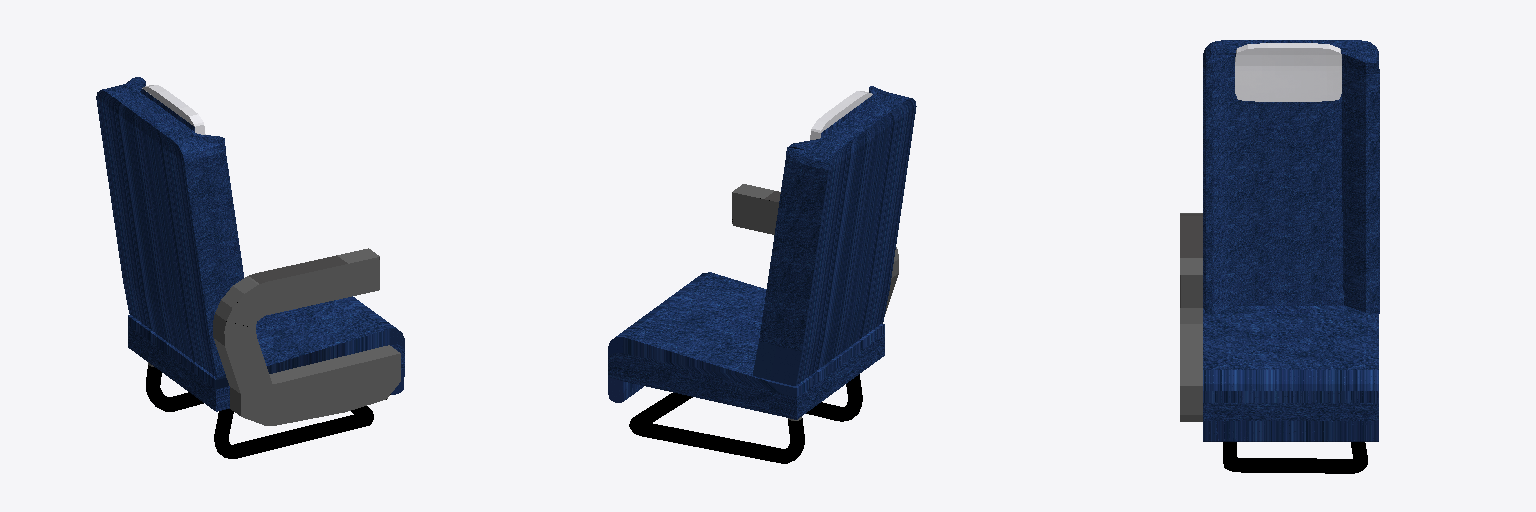
3 renders of one model, left to right at view 1: azimuth 30°, elevation 25°; view 2: azimuth 150°, elevation 25°; view 3: azimuth 270°, elevation 25°, orthographic.
Visible parts, largest first — view 1: Chair_Cube, Armrest_Cube.002, Bottom_Cube.001, Pillow_Cube.003; view 2: Chair_Cube, Bottom_Cube.001, Armrest_Cube.002, Pillow_Cube.003; view 3: Chair_Cube, Pillow_Cube.003, Armrest_Cube.002, Bottom_Cube.001.
Boxes of the visible parts, <box> form: Chair_Cube: <box>96,77,404,411</box>; Armrest_Cube.002: <box>213,248,400,425</box>; Bottom_Cube.001: <box>146,362,373,458</box>; Pillow_Cube.003: <box>142,85,205,134</box>; Chair_Cube: <box>608,86,916,419</box>; Bottom_Cube.001: <box>629,374,862,463</box>; Armrest_Cube.002: <box>732,184,898,313</box>; Pillow_Cube.003: <box>810,91,872,139</box>; Chair_Cube: <box>1203,40,1379,441</box>; Pillow_Cube.003: <box>1235,43,1341,101</box>; Armrest_Cube.002: <box>1180,213,1202,421</box>; Bottom_Cube.001: <box>1223,442,1367,473</box>.
Size of the model in its own units: 6.14 by 9.17 by 4.81.
4 materials, 4 textured.